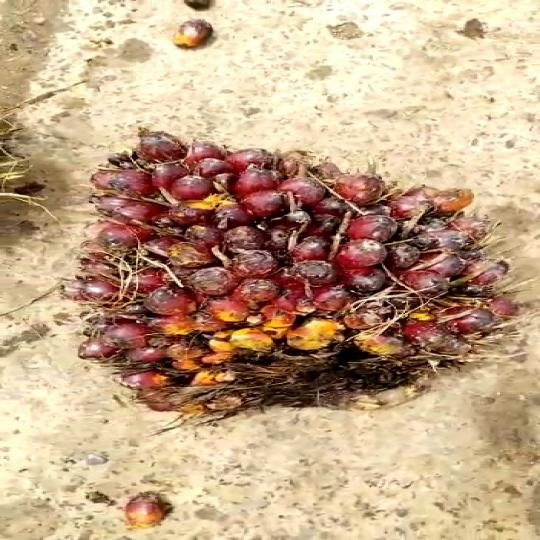kurang masak: (44, 110, 515, 427)
